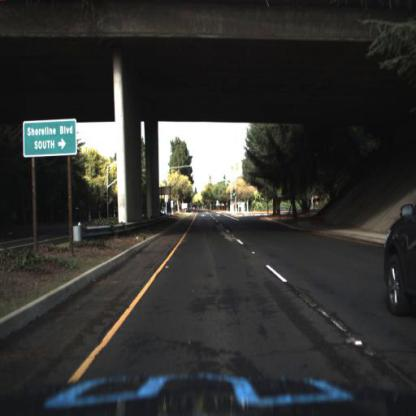car: (376, 182, 416, 317)
trafficLight-Green: (232, 186, 237, 204)
